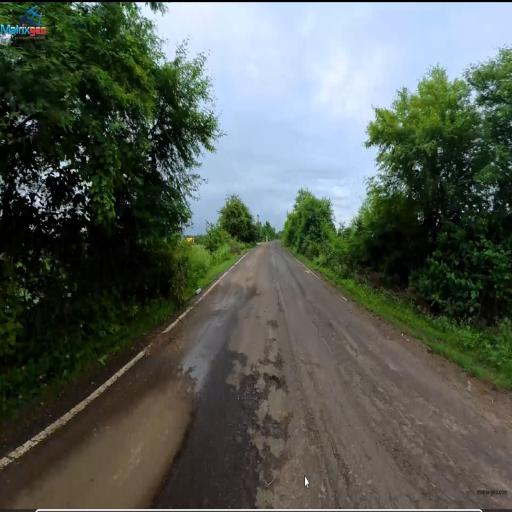ravelling: (240, 344, 302, 474)
